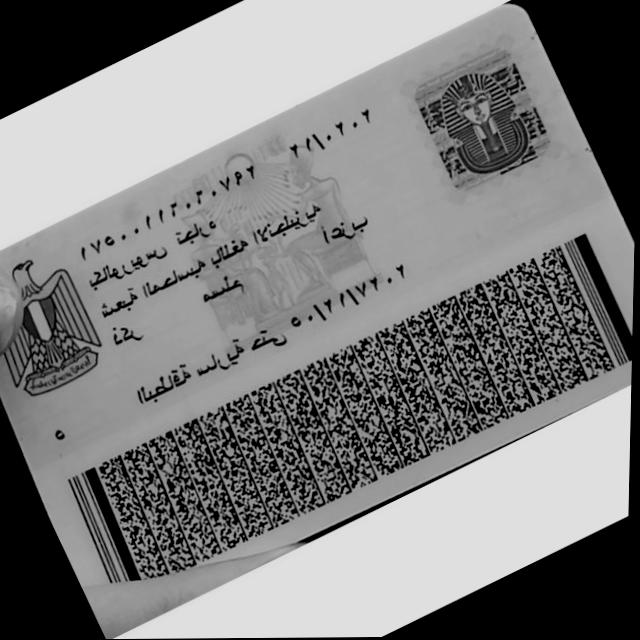id_card: (0, 5, 635, 584)
